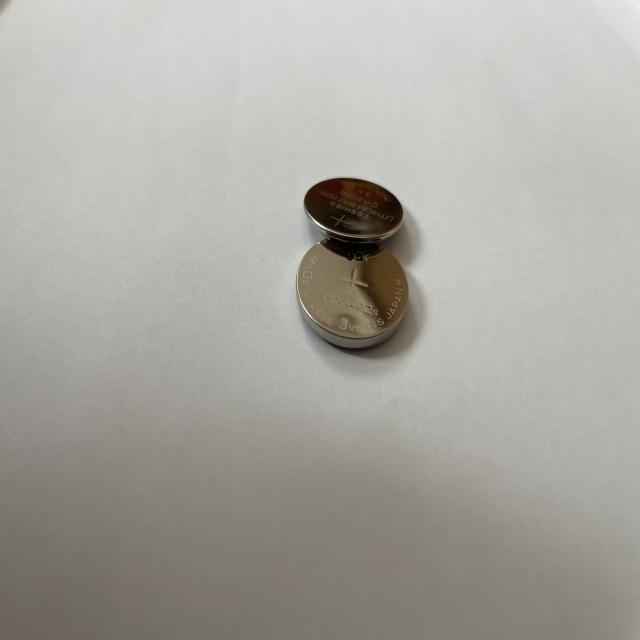COIN: (295, 236, 410, 350), (304, 177, 404, 247)
